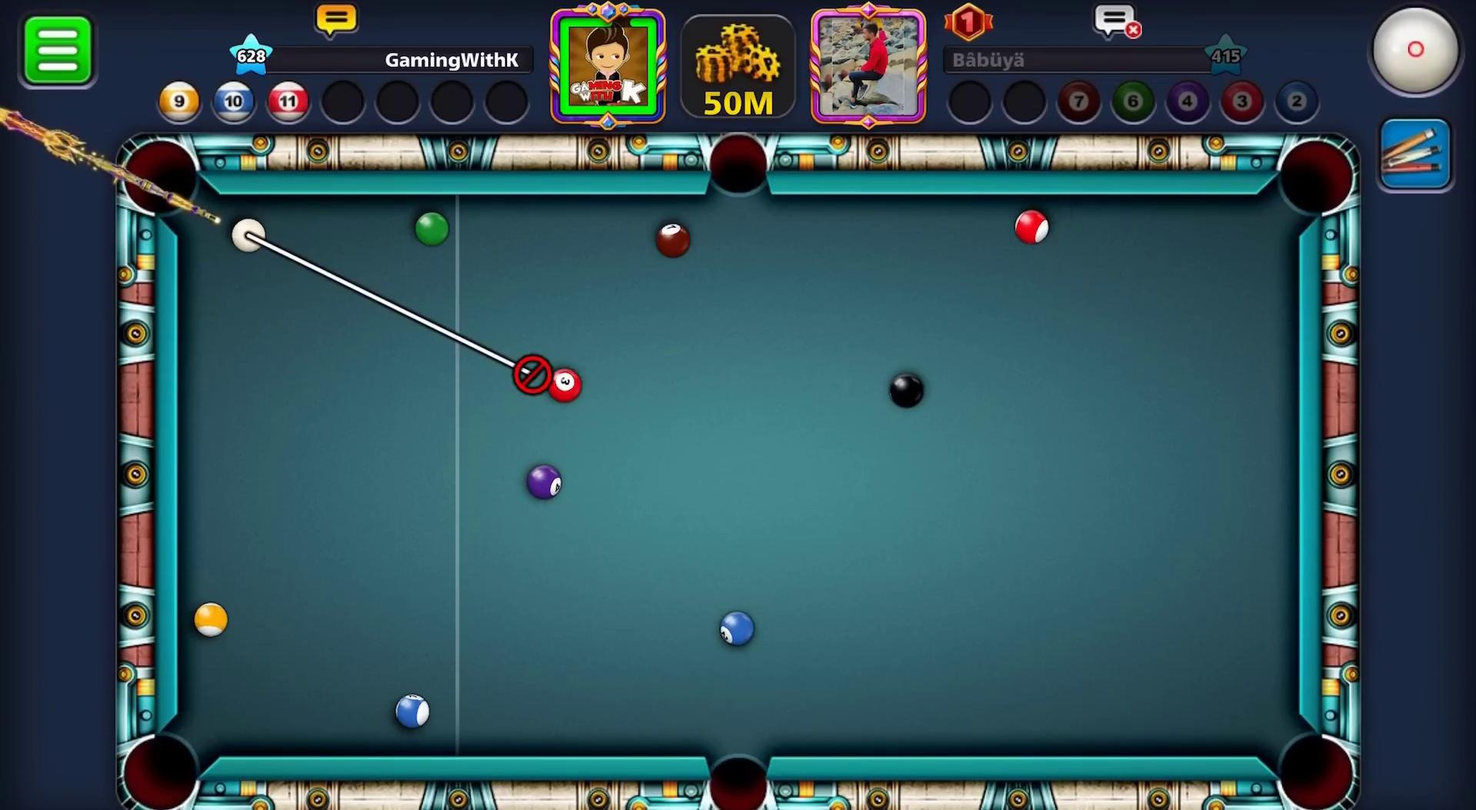Ball: (510, 455, 574, 509), (646, 216, 696, 260), (713, 607, 757, 655), (388, 691, 435, 735), (882, 369, 929, 413), (1009, 205, 1053, 249), (189, 599, 232, 642), (546, 364, 583, 408), (411, 210, 451, 246)
Guideline: (237, 231, 531, 384)
Hole: (104, 122, 224, 232), (1252, 705, 1373, 809), (102, 718, 220, 809), (1264, 128, 1364, 229), (692, 121, 788, 217), (690, 730, 783, 809)
Play_Area: (175, 195, 1298, 760)
Spin: (1361, 0, 1475, 111)
White: (224, 212, 272, 257)
